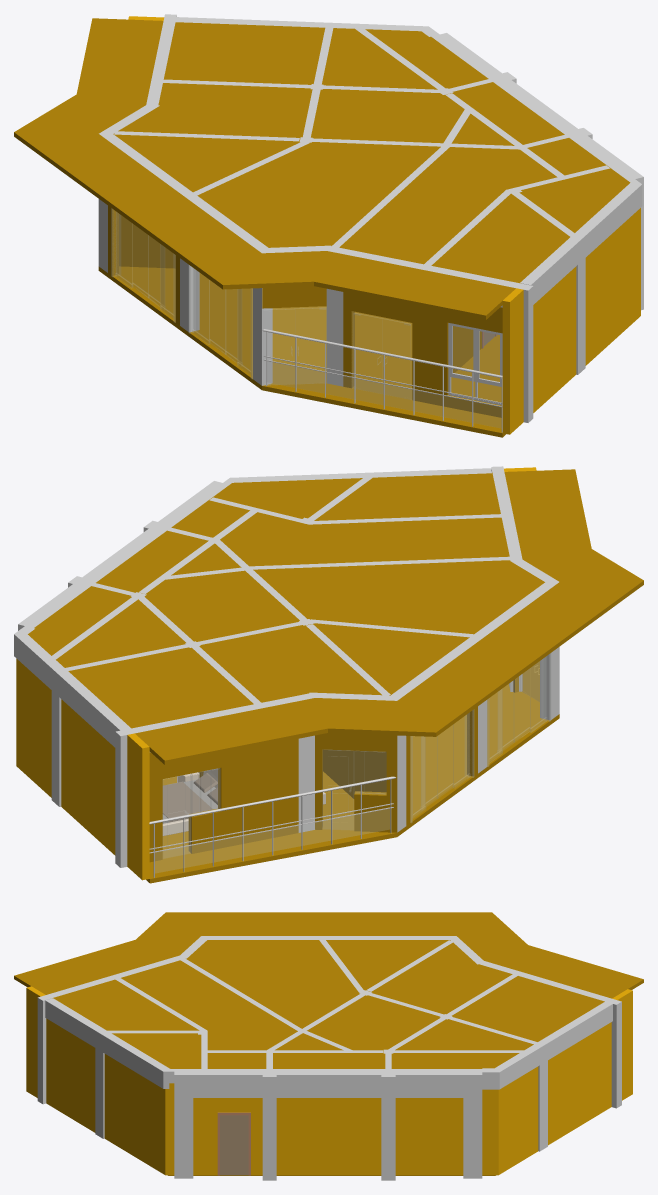
3 renders of one model, top to bottom at view 1: azimuth 30°, elevation 25°; view 2: azimuth 150°, elevation 25°; view 3: azimuth 270°, elevation 25°, orthographic. The views are drawn at different scales.
Parts seen in each view (by area): view 1: product-80484e0e-abc1-420a-9cb2-34c03fd558f2-body, product-80484e0e-abc1-420a-9cb2-34c03fd4d5ca-body, product-80484e0e-abc1-420a-9cb2-34c03fd50617-body, product-80484e0e-abc1-420a-9cb2-34c03fd473a7-body, product-430300c9-f647-4451-a409-d77cb6cb2a2c-body, product-430300c9-f647-4451-a409-d77cb6cc3529-body, product-80484e0e-abc1-420a-9cb2-34c03fd4ff36-body, product-80484e0e-abc1-420a-9cb2-34c03fd4e5c0-body, product-80484e0e-abc1-420a-9cb2-34c03fd4e508-body, product-80484e0e-abc1-420a-9cb2-34c03fd4e572-body, product-80484e0e-abc1-420a-9cb2-34c03fd4e68a-body, product-430300c9-f647-4451-a409-d77cb6cd47d4-body (+29 smaller); view 2: product-80484e0e-abc1-420a-9cb2-34c03fd558f2-body, product-80484e0e-abc1-420a-9cb2-34c03fd4d5ca-body, product-80484e0e-abc1-420a-9cb2-34c03fd46209-body, product-80484e0e-abc1-420a-9cb2-34c03fd50224-body, product-80484e0e-abc1-420a-9cb2-34c03fd46184-body, product-80484e0e-abc1-420a-9cb2-34c03fd4e508-body, product-80484e0e-abc1-420a-9cb2-34c03fd35629-body, product-80484e0e-abc1-420a-9cb2-34c03fd4ff36-body, product-80484e0e-abc1-420a-9cb2-34c03fd4fa60-body, product-80484e0e-abc1-420a-9cb2-34c03fd366b9-body, product-80484e0e-abc1-420a-9cb2-34c03fd4fab2-body, product-80484e0e-abc1-420a-9cb2-34c03fd502c4-body (+27 smaller); view 3: product-80484e0e-abc1-420a-9cb2-34c03fd558f2-body, product-80484e0e-abc1-420a-9cb2-34c03fd44dfa-body, product-80484e0e-abc1-420a-9cb2-34c03fd46184-body, product-80484e0e-abc1-420a-9cb2-34c03fd44c4d-body, product-430300c9-f647-4451-a409-d77cb6cb2a2c-body, product-430300c9-f647-4451-a409-d77cb6cc3529-body, product-80484e0e-abc1-420a-9cb2-34c03fd47ede-body, product-80484e0e-abc1-420a-9cb2-34c03fd366b9-body, product-80484e0e-abc1-420a-9cb2-34c03fd305a4-body, product-80484e0e-abc1-420a-9cb2-34c03fd35f86-body, product-430300c9-f647-4451-a409-d77cb6cb036d-body, product-80484e0e-abc1-420a-9cb2-34c03fd43453-body (+26 smaller).
Part boxes in pixels (x1,y1,x2,y2): product-80484e0e-abc1-420a-9cb2-34c03fd558f2-body: (14, 18, 630, 319); product-80484e0e-abc1-420a-9cb2-34c03fd4d5ca-body: (98, 266, 506, 437); product-80484e0e-abc1-420a-9cb2-34c03fd50617-body: (262, 329, 502, 432); product-80484e0e-abc1-420a-9cb2-34c03fd473a7-body: (343, 292, 502, 417); product-430300c9-f647-4451-a409-d77cb6cb2a2c-body: (585, 212, 636, 365); product-430300c9-f647-4451-a409-d77cb6cc3529-body: (533, 266, 576, 412); product-80484e0e-abc1-420a-9cb2-34c03fd4ff36-body: (188, 265, 252, 378); product-80484e0e-abc1-420a-9cb2-34c03fd4e5c0-body: (263, 306, 326, 385); product-80484e0e-abc1-420a-9cb2-34c03fd4e508-body: (111, 208, 175, 322); product-80484e0e-abc1-420a-9cb2-34c03fd4e572-body: (352, 311, 411, 399); product-80484e0e-abc1-420a-9cb2-34c03fd4e68a-body: (448, 323, 502, 405); product-430300c9-f647-4451-a409-d77cb6cd47d4-body: (502, 288, 523, 434); product-80484e0e-abc1-420a-9cb2-34c03fd558f2-body: (28, 469, 643, 764); product-80484e0e-abc1-420a-9cb2-34c03fd4d5ca-body: (146, 661, 559, 883); product-80484e0e-abc1-420a-9cb2-34c03fd46209-body: (149, 738, 298, 862); product-80484e0e-abc1-420a-9cb2-34c03fd50224-body: (149, 776, 395, 877); product-80484e0e-abc1-420a-9cb2-34c03fd46184-body: (61, 699, 115, 855); product-80484e0e-abc1-420a-9cb2-34c03fd4e508-body: (410, 709, 474, 822); product-80484e0e-abc1-420a-9cb2-34c03fd35629-body: (315, 733, 397, 832); product-80484e0e-abc1-420a-9cb2-34c03fd4ff36-body: (487, 653, 551, 766); product-80484e0e-abc1-420a-9cb2-34c03fd4fa60-body: (322, 749, 386, 829); product-80484e0e-abc1-420a-9cb2-34c03fd366b9-body: (20, 662, 51, 797); product-80484e0e-abc1-420a-9cb2-34c03fd4fab2-body: (162, 768, 220, 858); product-80484e0e-abc1-420a-9cb2-34c03fd502c4-body: (127, 733, 149, 880); product-80484e0e-abc1-420a-9cb2-34c03fd558f2-body: (14, 912, 643, 1068); product-80484e0e-abc1-420a-9cb2-34c03fd44dfa-body: (276, 1098, 381, 1175); product-80484e0e-abc1-420a-9cb2-34c03fd46184-body: (548, 1022, 611, 1145); product-80484e0e-abc1-420a-9cb2-34c03fd44c4d-body: (395, 1098, 463, 1175); product-430300c9-f647-4451-a409-d77cb6cb2a2c-body: (104, 1054, 160, 1172); product-430300c9-f647-4451-a409-d77cb6cc3529-body: (46, 1018, 95, 1132); product-80484e0e-abc1-420a-9cb2-34c03fd47ede-body: (193, 1098, 262, 1175); product-80484e0e-abc1-420a-9cb2-34c03fd366b9-body: (503, 1066, 538, 1172); product-80484e0e-abc1-420a-9cb2-34c03fd305a4-body: (276, 1069, 381, 1097); product-80484e0e-abc1-420a-9cb2-34c03fd35f86-body: (463, 1069, 482, 1178); product-430300c9-f647-4451-a409-d77cb6cb036d-body: (174, 1069, 193, 1178); product-80484e0e-abc1-420a-9cb2-34c03fd43453-body: (217, 1112, 250, 1175).
Bounding box in the file's own units: 12.27 × 3.72 × 19.84.
